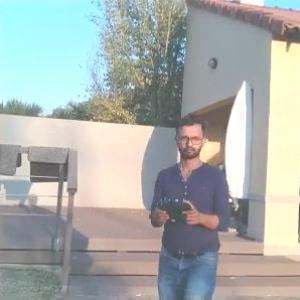follow: (143, 110, 233, 299)
